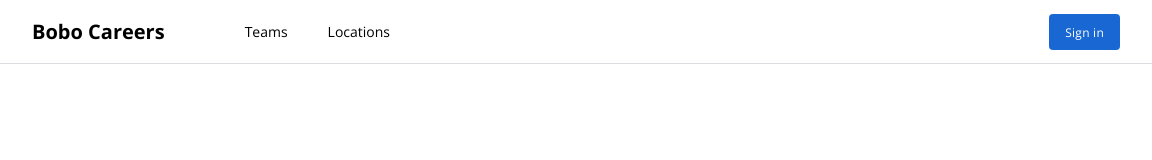
Scenario: MainNav › when user is logged in › display profile image when clicking in sign in button
Click the button with test id "action-button": x=1085, y=32 x1=1049 y1=14 x2=1120 y2=50
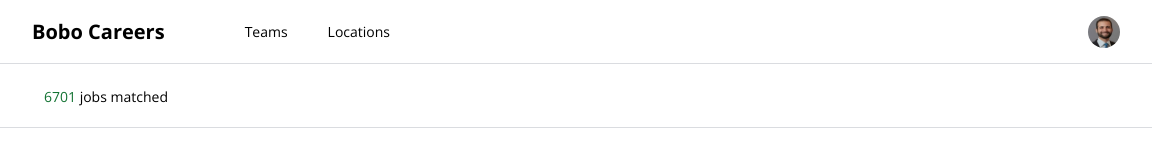
Expected: the picture with test id "profile-image" is shown, x1=1088 y1=16 x2=1120 y2=48
